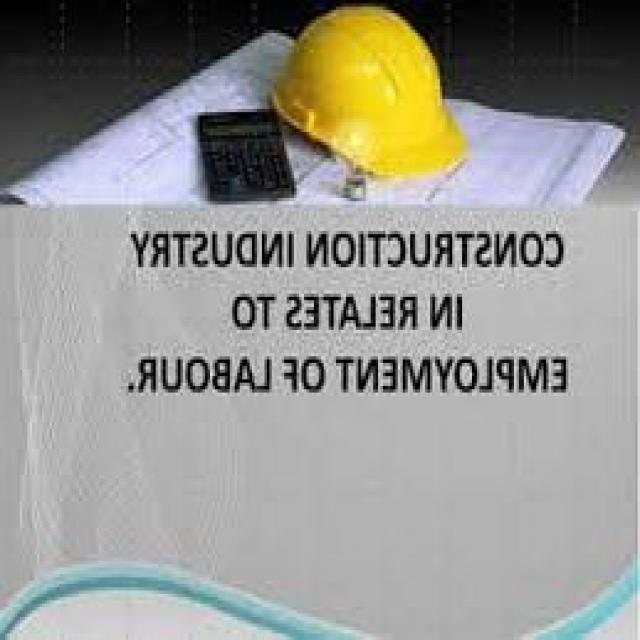Safety-Helmet: (259, 0, 476, 191)
